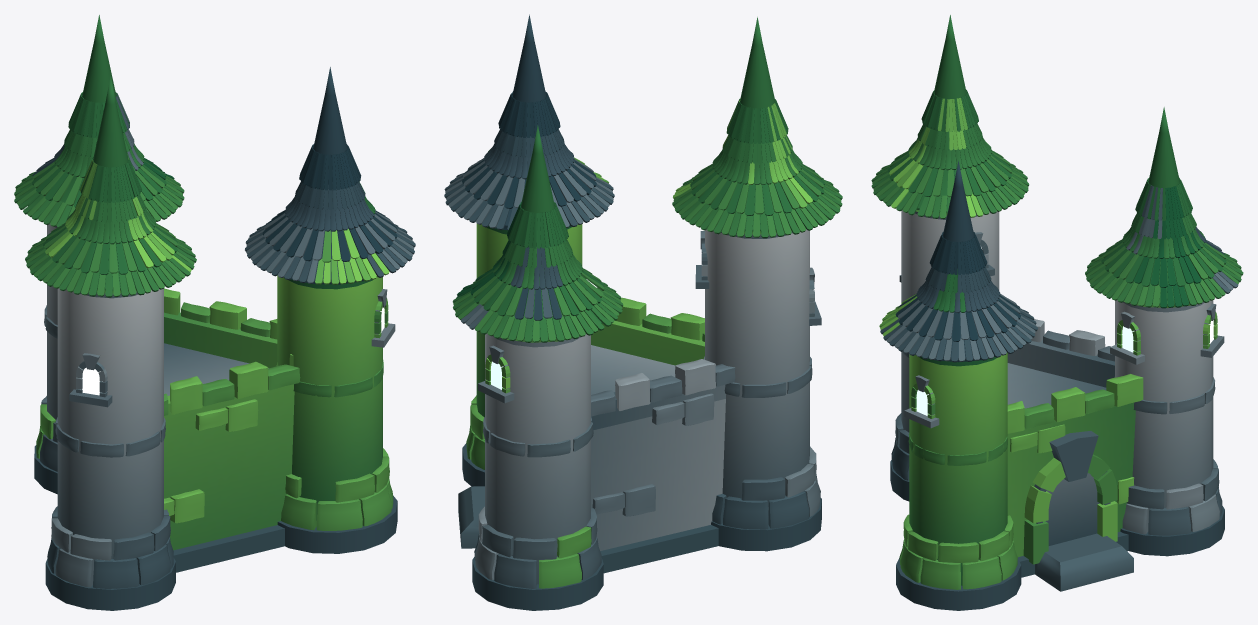
The model's file is MedievalCastle_2.glb.
The picture shows the model from 3 angles, left to right: view 1: azimuth 30°, elevation 25°; view 2: azimuth 150°, elevation 25°; view 3: azimuth 270°, elevation 25°; orthographic projection. The views are drawn at different scales.
Parts seen in each view (by area): view 1: TowerC, TowerA, CastleBody, TowerB, WindowC2, WindowA; view 2: TowerC, TowerB, CastleBody, TowerA, Gate, WindowB2; view 3: TowerA, TowerB, CastleBody, TowerC, Gate, WindowA, WindowB, WindowB2.
Part boxes in pixels (x1,y1,x2,y2): TowerC: [25, 75, 196, 588]; TowerA: [245, 67, 415, 530]; CastleBody: [34, 288, 397, 610]; TowerB: [14, 15, 184, 471]; WindowC2: [69, 353, 112, 407]; WindowA: [371, 289, 395, 347]; TowerC: [672, 17, 842, 529]; TowerB: [452, 125, 623, 588]; CastleBody: [462, 297, 821, 610]; TowerA: [444, 14, 614, 469]; Gate: [458, 486, 484, 548]; WindowB2: [477, 345, 514, 403]; TowerA: [879, 161, 1037, 589]; TowerB: [1085, 107, 1243, 535]; CastleBody: [890, 319, 1224, 610]; TowerC: [871, 15, 1029, 480]; Gate: [1023, 431, 1133, 591]; WindowA: [904, 375, 939, 428]; WindowB: [1110, 311, 1144, 364]; WindowB2: [1200, 303, 1224, 357].
Bounding box in the file's own units: 3.46 × 4.51 × 3.24.
Materials: 2 (1 with a texture image).
